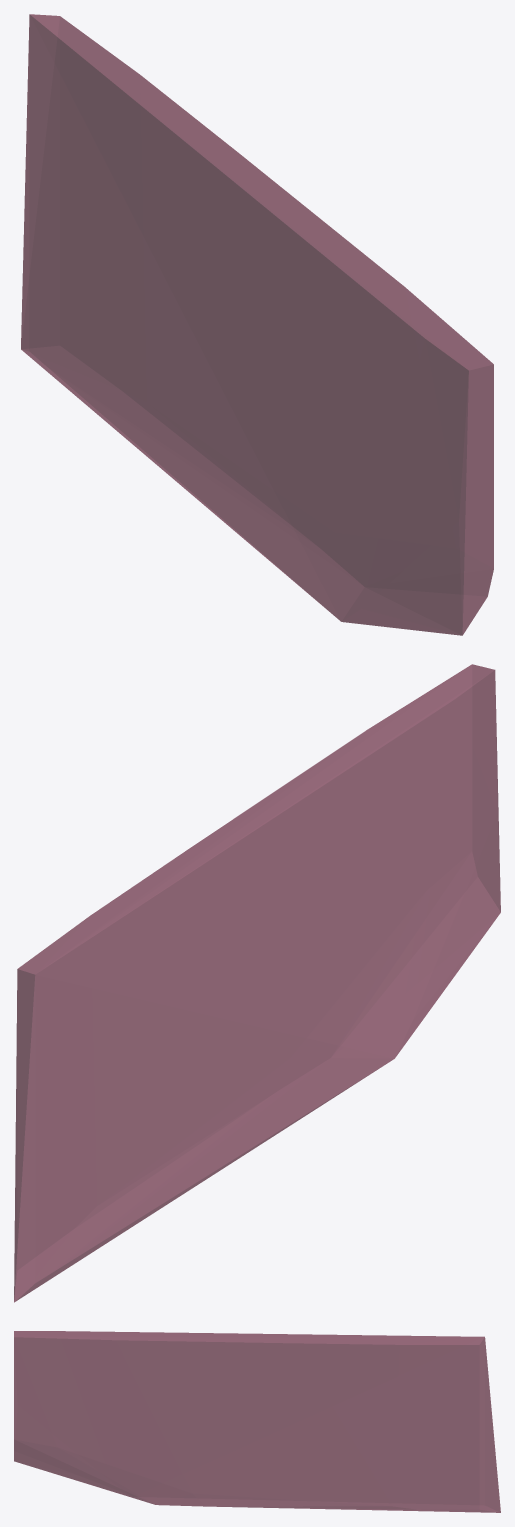
The picture shows the model from 3 angles, top to bottom: view 1: azimuth 30°, elevation 25°; view 2: azimuth 150°, elevation 25°; view 3: azimuth 270°, elevation 25°; orthographic projection. The views are drawn at different scales.
Visible parts, largest first — view 1: Shape_IndexedFaceSet.053_Shape_IndexedFaceSet.3549; view 2: Shape_IndexedFaceSet.053_Shape_IndexedFaceSet.3549; view 3: Shape_IndexedFaceSet.053_Shape_IndexedFaceSet.3549.
Part boxes in pixels (box(x1,y1,x2,y2)): Shape_IndexedFaceSet.053_Shape_IndexedFaceSet.3549: box(21, 14, 493, 635); Shape_IndexedFaceSet.053_Shape_IndexedFaceSet.3549: box(14, 664, 500, 1302); Shape_IndexedFaceSet.053_Shape_IndexedFaceSet.3549: box(14, 1331, 500, 1512).
Bounding box in the file's own units: 0.0574 × 0.2911 × 0.737.
